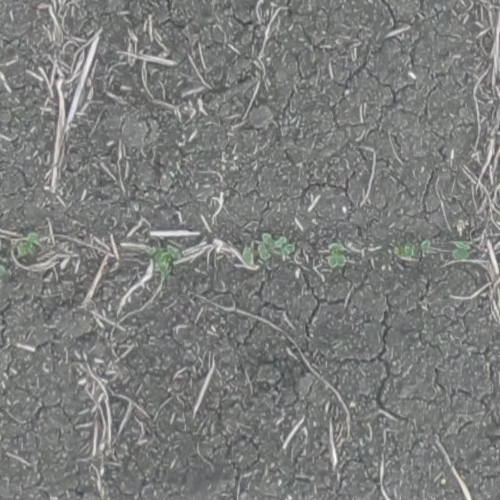plant: (263, 232, 295, 266), (151, 241, 181, 276), (403, 239, 431, 260), (18, 232, 40, 255), (327, 244, 347, 268), (452, 239, 471, 261), (0, 224, 5, 284)
